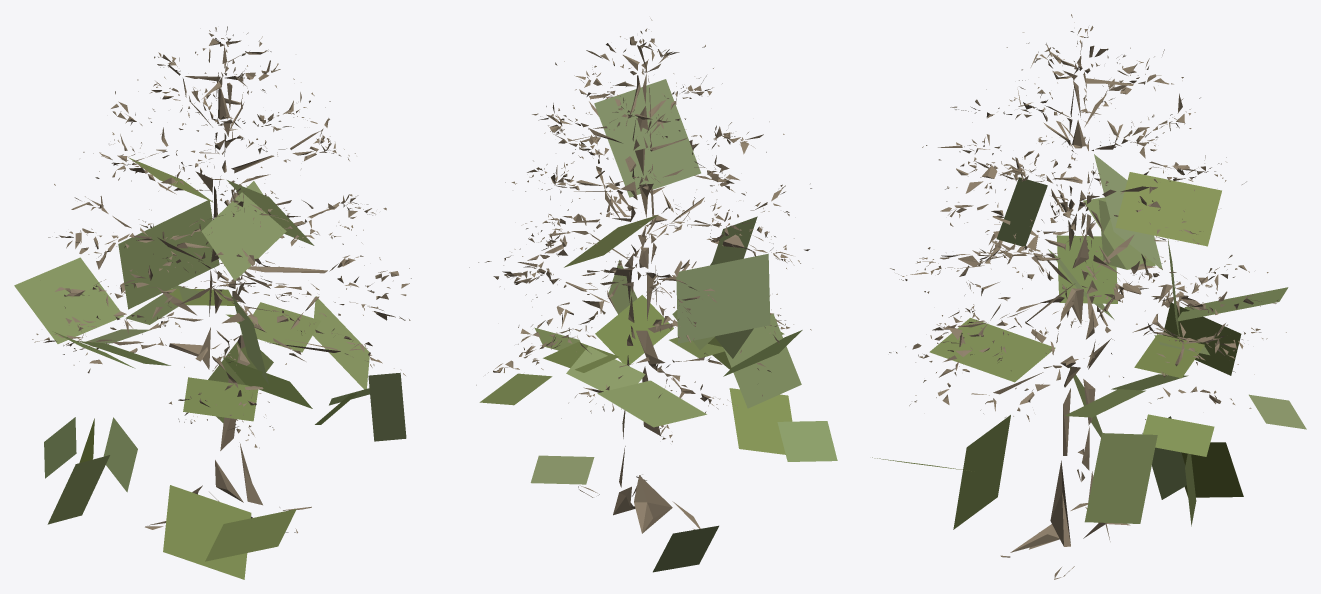
Rendered from tree_small_redwood_a.glb.
3 renders of one model, left to right at view 1: azimuth 30°, elevation 25°; view 2: azimuth 150°, elevation 25°; view 3: azimuth 270°, elevation 25°, orthographic. The views are drawn at different scales.
Parts seen in each view (by area): view 1: leaves, wood; view 2: leaves, wood; view 3: leaves, wood.
Boxes of the visible parts, <box> form: leaves: <box>14,157,406,579</box>; wood: <box>32,26,411,533</box>; leaves: <box>479,79,837,572</box>; wood: <box>469,18,811,533</box>; leaves: <box>872,154,1306,529</box>; wood: <box>889,14,1286,579</box>.
Size of the model in its own units: 4.99 by 6.59 by 4.97.
